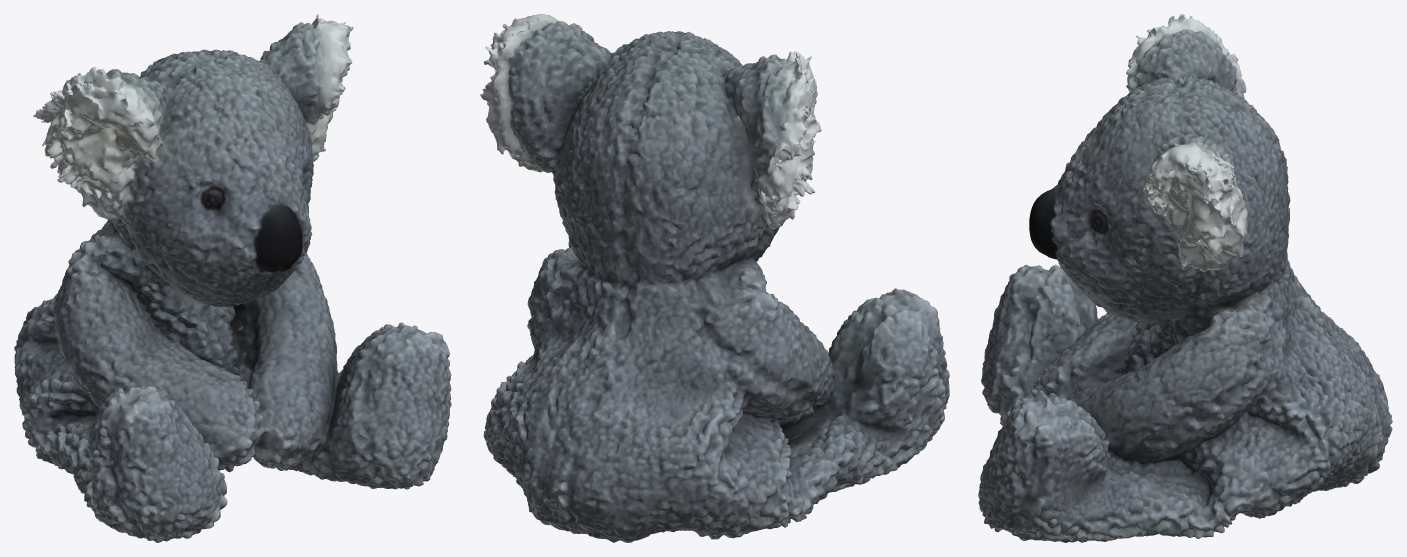
Rendered from Ortho_Forward_Facing_QCaor9ImJ2G.glb.
The picture shows the model from 3 angles, left to right: view 1: azimuth 30°, elevation 25°; view 2: azimuth 150°, elevation 25°; view 3: azimuth 270°, elevation 25°; orthographic projection. The views are drawn at different scales.
Visible parts, largest first — view 1: Ortho_Forward_Facing_QCaor9ImJ2G; view 2: Ortho_Forward_Facing_QCaor9ImJ2G; view 3: Ortho_Forward_Facing_QCaor9ImJ2G.
Boxes of the visible parts, left/top/right/bottom form: Ortho_Forward_Facing_QCaor9ImJ2G: left=14, top=14, right=451, bottom=542; Ortho_Forward_Facing_QCaor9ImJ2G: left=480, top=14, right=949, bottom=542; Ortho_Forward_Facing_QCaor9ImJ2G: left=978, top=14, right=1392, bottom=542.
Size of the model in its own units: 0.1734 by 0.1955 by 0.1797.
Materials: 1 (1 with a texture image).
